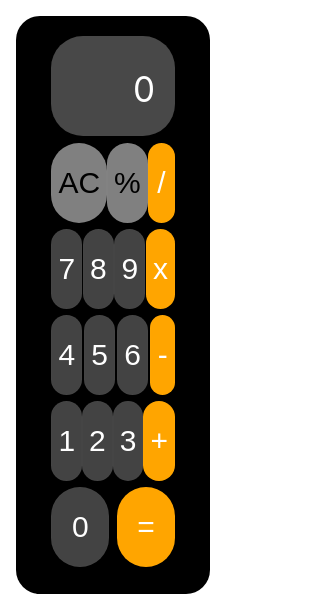
Scenario: Calculator › Subtracts numbers correctly together
Click the button with id "nine".
click(130, 269)  # box [114, 229, 145, 309]
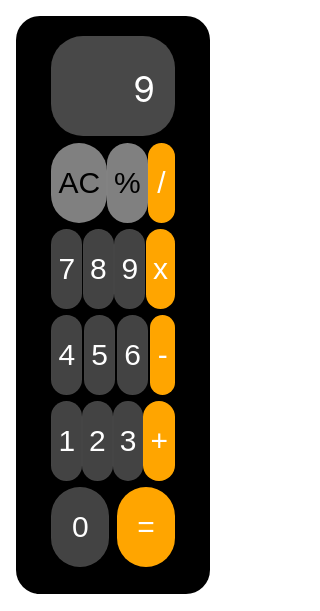
Click the button with id "two".
click(97, 441)  # box [82, 401, 113, 481]
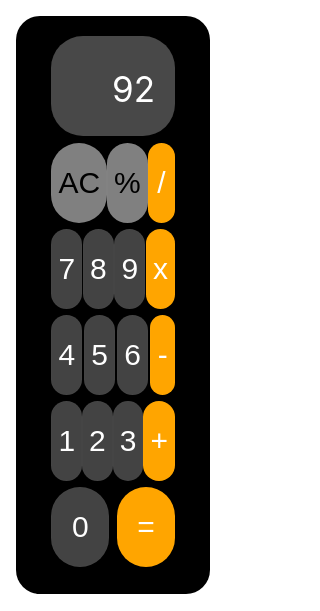
Click the button with id "minus".
click(163, 355)  # box [150, 315, 175, 395]
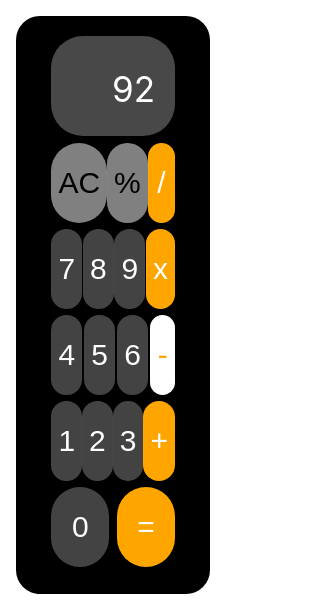
Click the button with id "three".
click(128, 441)  # box [113, 401, 144, 481]
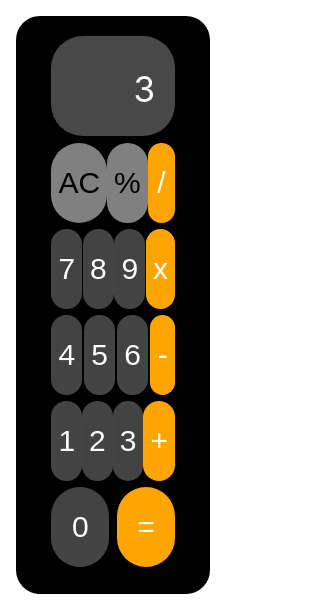
Click the button with id "three".
click(128, 441)  # box [113, 401, 144, 481]
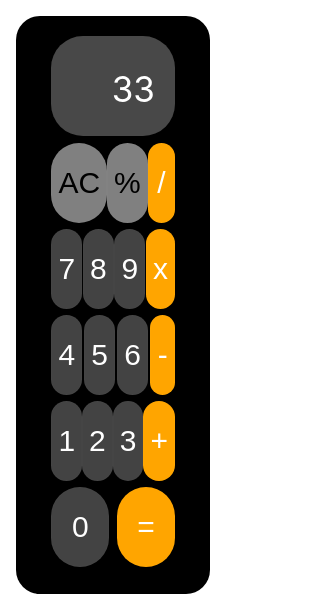
Click the button with id "equals".
click(146, 527)  # box [117, 487, 175, 567]
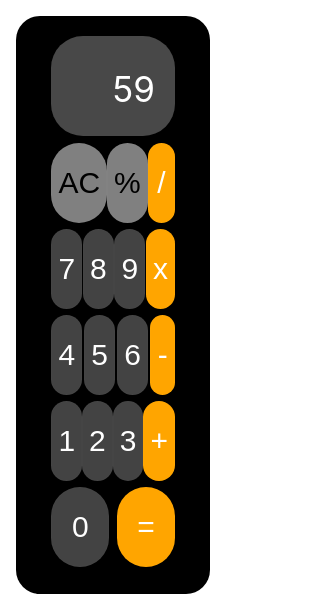
Expected: the element with class "display" reads "59", [112, 68, 155, 110]
